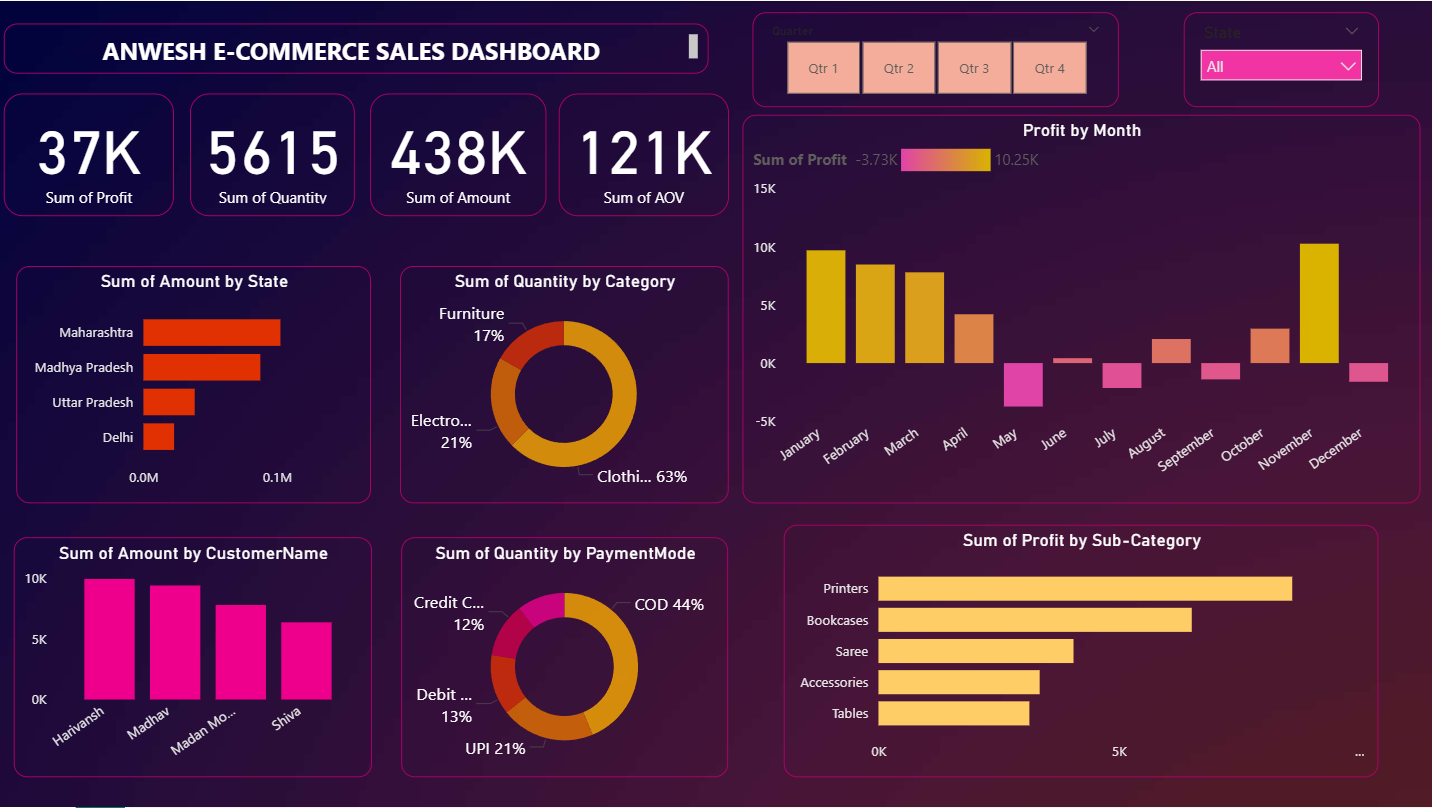

The dashboard page shown, as its layout file describes it:
{"tool":"powerbi","page":{"name":"Page 1","canvas":[1280,720],"ordinal":0},"visuals":[{"type":"textbox","box":[2.9,20.2,629.9,44.7],"z":0},{"type":"columnChart","title":"Profit by Month","fields":{"Y":["Details.Profit"],"Category":["Orders.Order Date.Variation.Date Hierarchy.Month"]},"box":[663.1,102.2,605.3,347],"z":1000},{"type":"barChart","fields":{"Category":["Details.Sub-Category"],"Y":["Details.Profit"]},"box":[700.1,467.9,531.5,225.6],"z":2000},{"type":"donutChart","fields":{"Category":["Details.Category"],"Y":["Details.Quantity"]},"box":[356.9,237.1,293.4,212],"z":3000},{"type":"donutChart","fields":{"Y":["Details.Quantity"],"Category":["Details.PaymentMode"]},"box":[358.1,479,292.2,214.4],"z":4000},{"type":"card","fields":{"Values":["Details.Amount"]},"box":[330.5,82.6,157.4,109.4],"z":5000},{"type":"card","fields":{"Values":["Details.Quantity"]},"box":[169.7,82.6,147.4,109.4],"z":6000},{"type":"card","fields":{"Values":["Details.Profit"]},"box":[3.3,82.6,151.9,109.4],"z":7000},{"type":"card","fields":{"Values":["Details.AOV"]},"box":[499.1,82.6,151.9,109.4],"z":8000},{"type":"barChart","fields":{"Category":["Orders.State"],"Y":["Details.Amount"]},"box":[14.5,236.7,317.1,212.2],"z":9000},{"type":"columnChart","fields":{"Category":["Orders.CustomerName"],"Y":["Details.Amount"]},"box":[12,479,319.8,214.4],"z":10000},{"type":"slicer","fields":{"Values":["Orders.Order Date.Variation.Date Hierarchy.Quarter"]},"box":[672.2,10,327.2,84.9],"z":11000},{"type":"slicer","fields":{"Values":["Orders.State"]},"box":[1057.4,10,174.2,84.9],"z":12000}]}

Visuals, with their boxes in screenshot pixels (x1, y1, x2, y2), scaled from the page's 1280x720 canvas onto the 1432x808 screenshot:
textbox: 3 23 708 73
"Profit by Month" columnChart: 742 115 1419 504
barChart - Details.Sub-Category x Details.Profit: 783 525 1378 778
donutChart - Details.Category x Details.Quantity: 399 266 728 504
donutChart - Details.Quantity x Details.PaymentMode: 401 538 728 778
card - Details.Amount: 370 93 546 215
card - Details.Quantity: 190 93 355 215
card - Details.Profit: 4 93 174 215
card - Details.AOV: 558 93 728 215
barChart - Orders.State x Details.Amount: 16 266 371 504
columnChart - Orders.CustomerName x Details.Amount: 13 538 371 778
slicer - Orders.Order Date.Variation.Date Hierarchy.Quarter: 752 11 1118 106
slicer - Orders.State: 1183 11 1378 106
